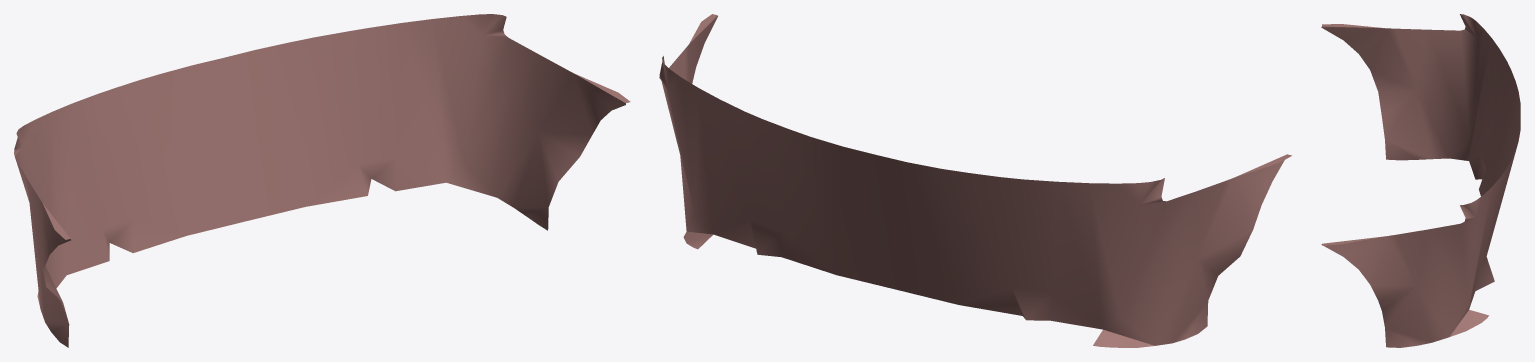
File: G37_RB_04_Trim.fbx
The picture shows the model from 3 angles, left to right: view 1: azimuth 30°, elevation 25°; view 2: azimuth 150°, elevation 25°; view 3: azimuth 270°, elevation 25°; orthographic projection. The views are drawn at different scales.
Visible parts, largest first — view 1: G37_RB_04_Trim; view 2: G37_RB_04_Trim; view 3: G37_RB_04_Trim.
Boxes of the visible parts, x1,y1,x2,y2 form: G37_RB_04_Trim: (14, 14, 630, 347); G37_RB_04_Trim: (659, 14, 1291, 347); G37_RB_04_Trim: (1321, 14, 1520, 347).
Bounding box in the file's own units: 181 × 55.22 × 69.1.
